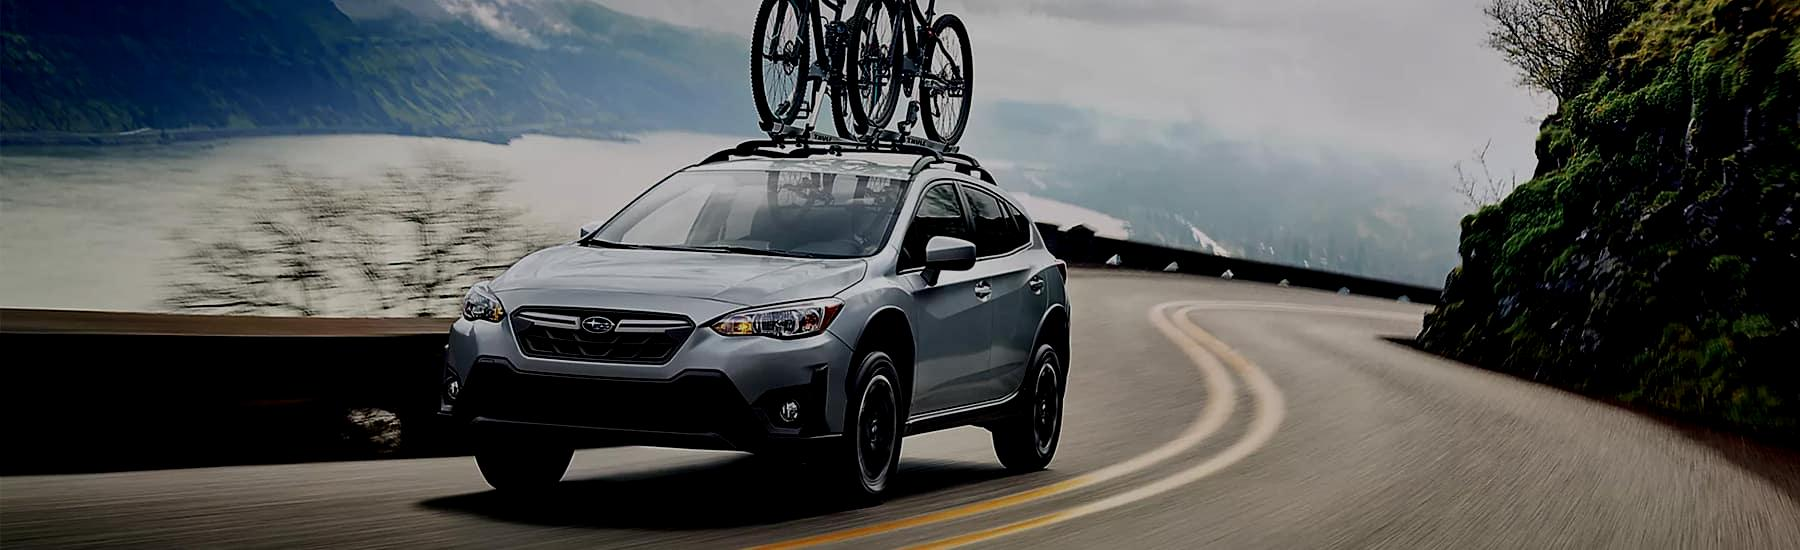subaru: (575, 307, 618, 341)
